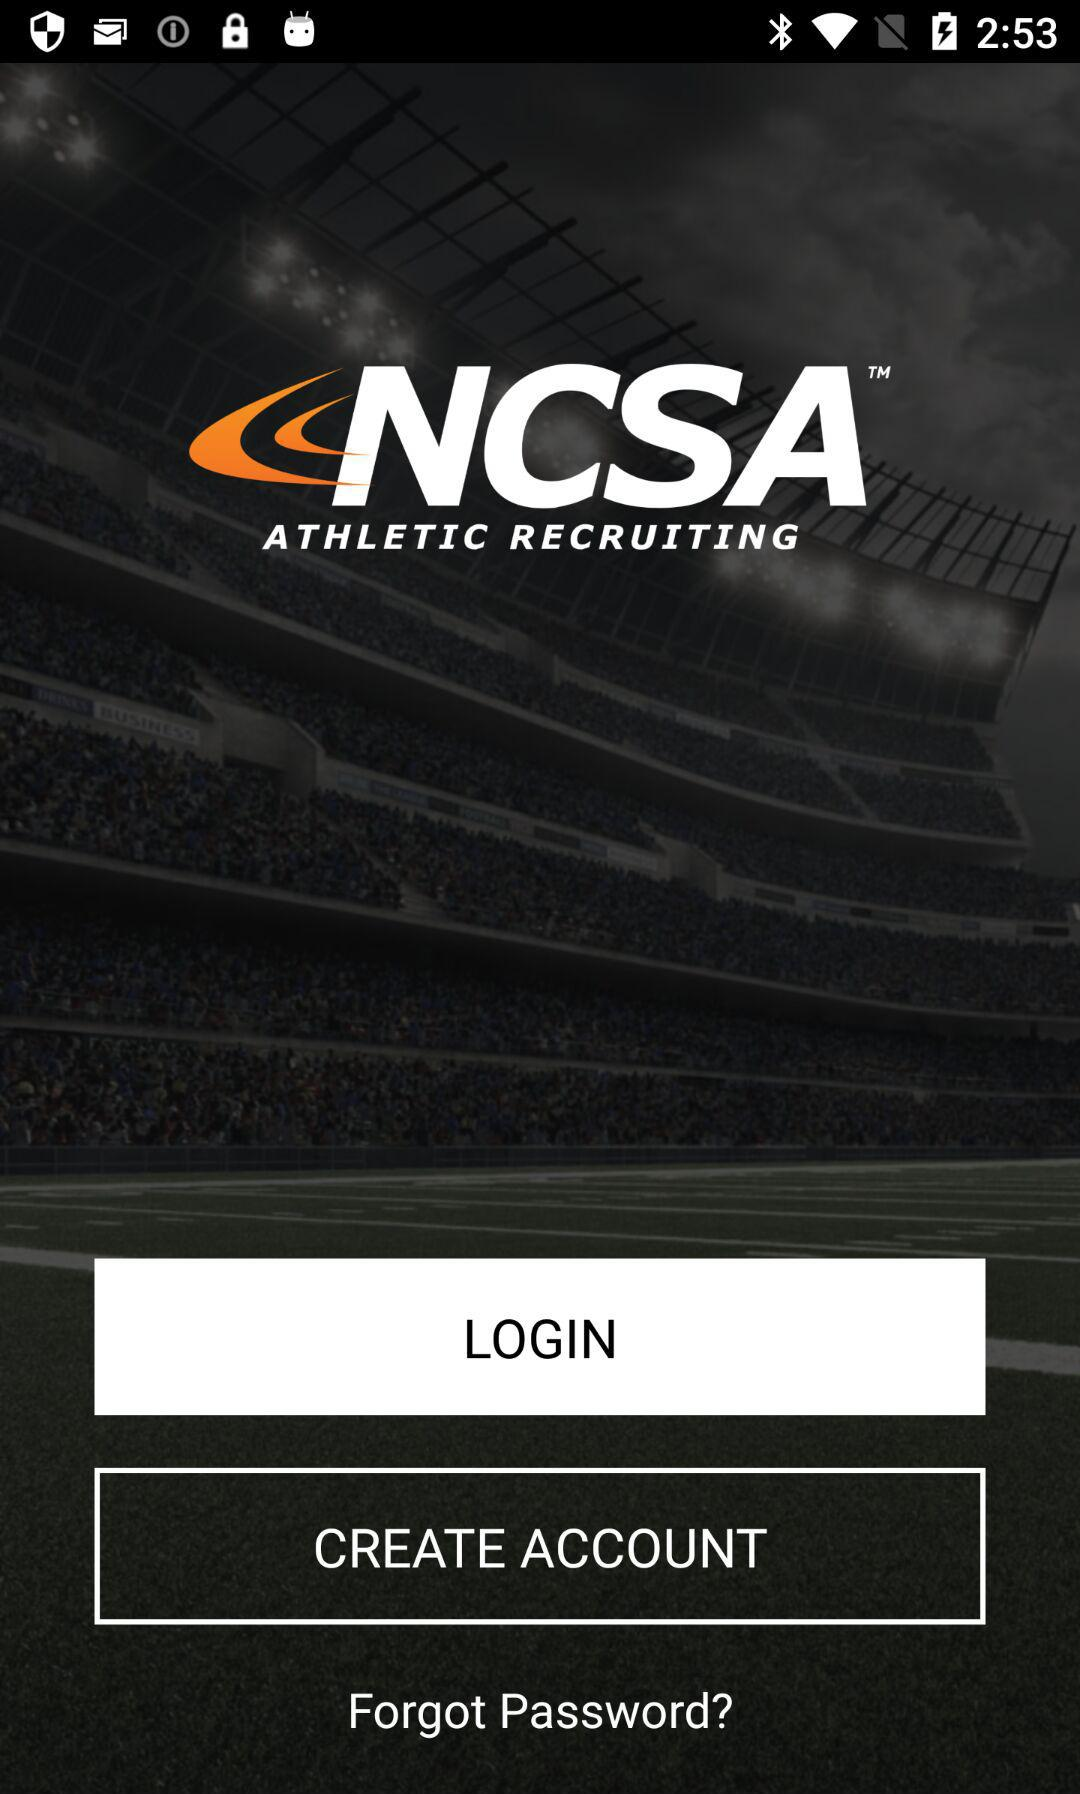BackgroundImage: (1, 64, 1080, 1794)
Image: (187, 363, 896, 556)
Text: (350, 1691, 734, 1740)
TextButton: (94, 1257, 986, 1416), (94, 1467, 986, 1625)
UpperTaskBar: (1, 1, 1080, 64)
